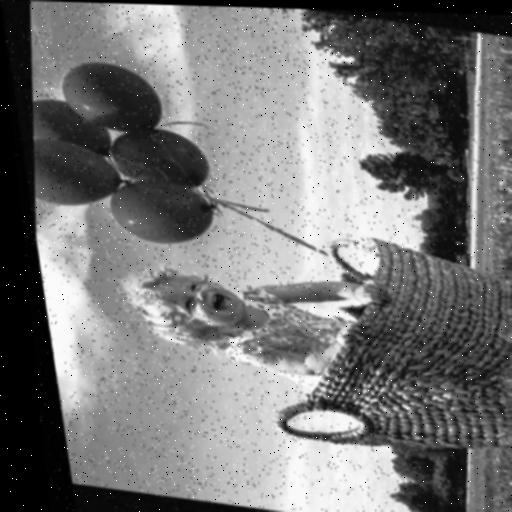balloon: (48, 55, 165, 137), (102, 173, 212, 247), (24, 137, 123, 216), (105, 126, 211, 189), (24, 94, 119, 162)
